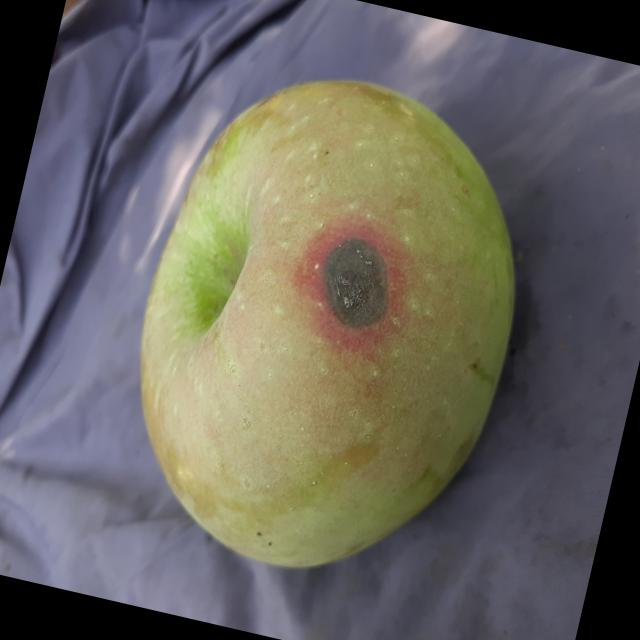rotten: (85, 30, 576, 623)
